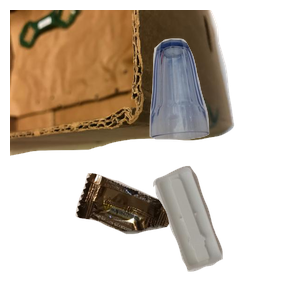cardboard: (10, 10, 237, 158)
glass: (147, 36, 300, 168)
plastic: (150, 163, 300, 300)
trash: (73, 171, 242, 300)
